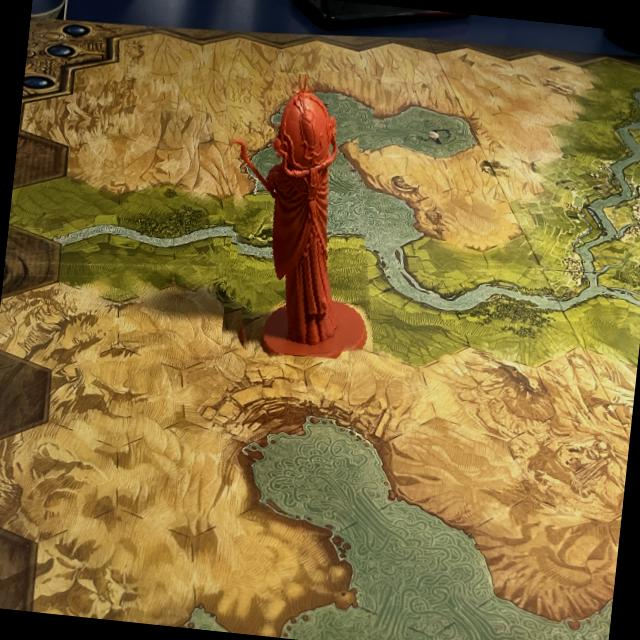amon: (208, 62, 389, 366)
